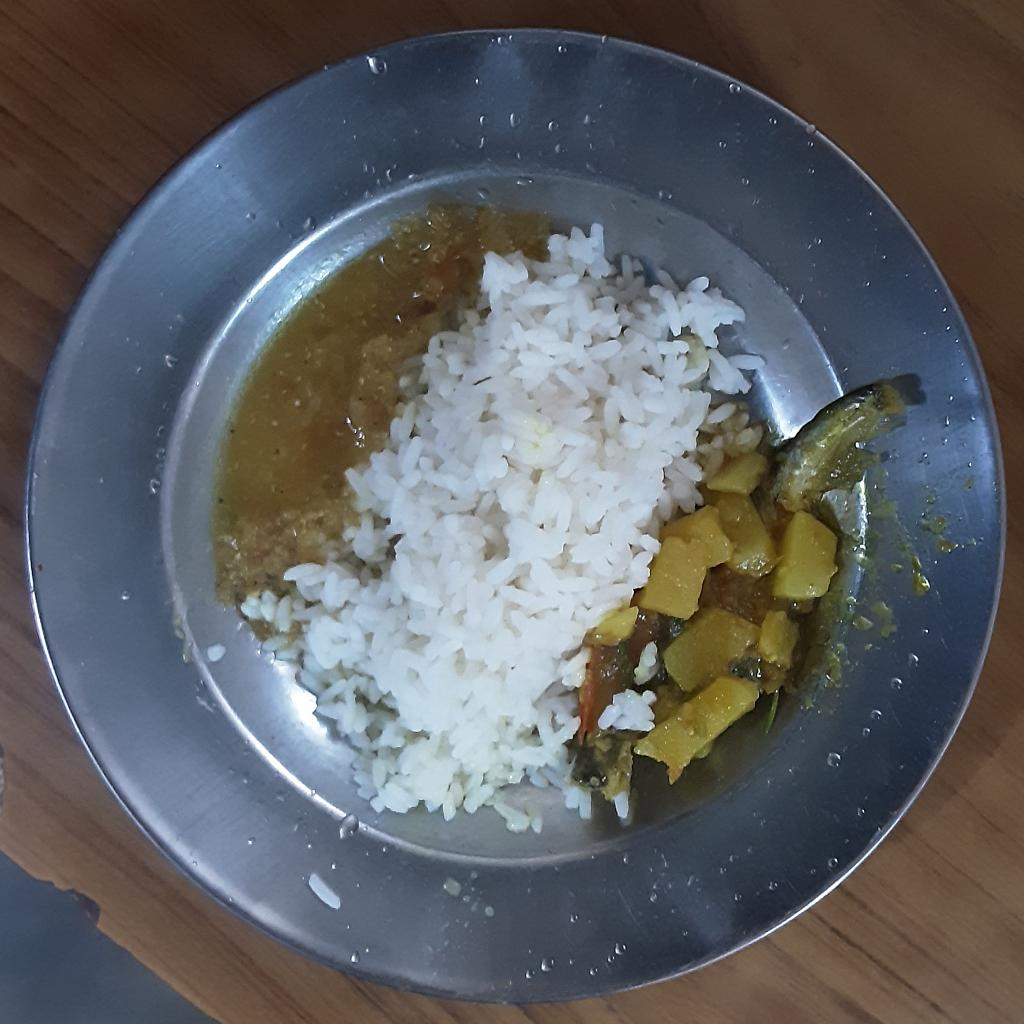daal: (209, 204, 570, 596)
fish: (756, 376, 928, 524)
potato: (588, 451, 838, 783)
rice: (238, 224, 773, 835)
